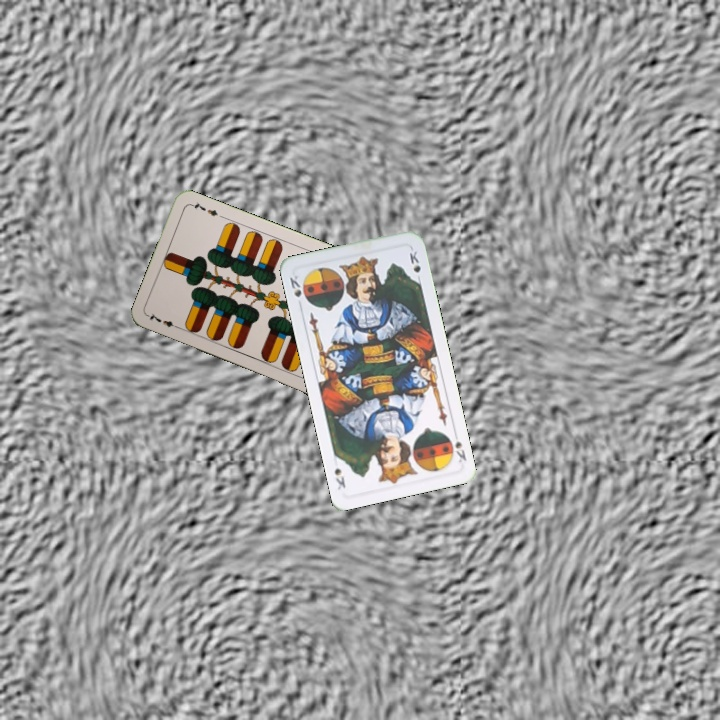E7: (145, 309, 183, 332)
SK: (444, 428, 469, 465), (286, 271, 304, 300)
